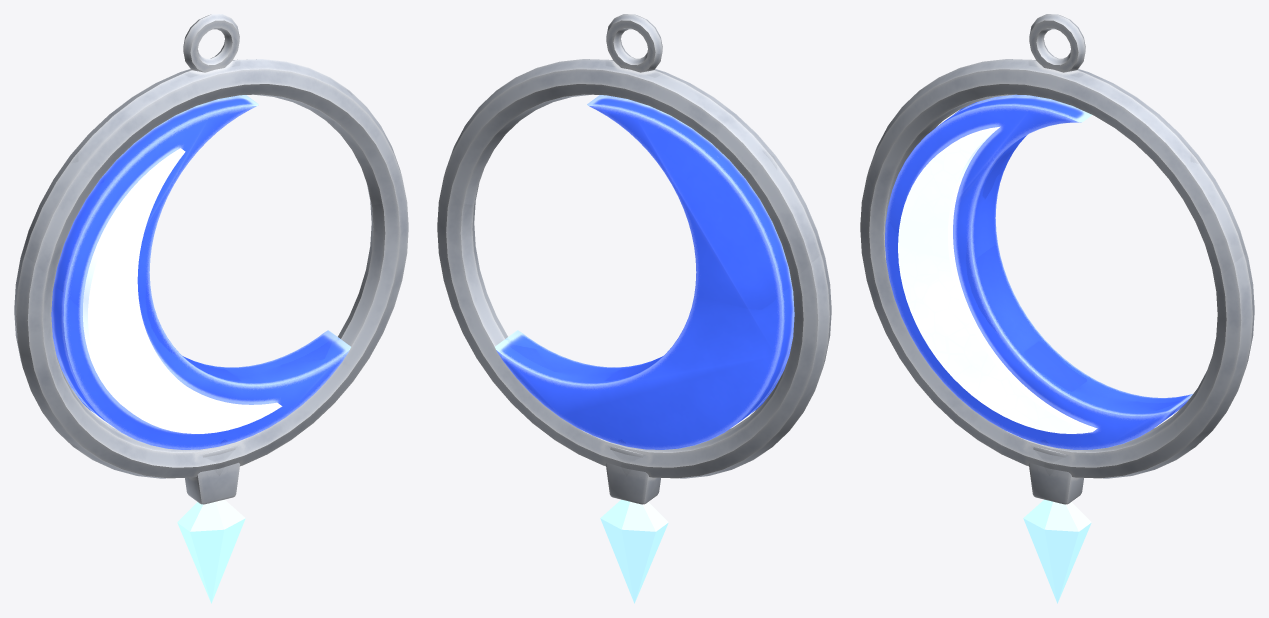
File: PalletMarkCobalt.glb
3 views of the same model, side by side, from view 1: azimuth 30°, elevation 25°; view 2: azimuth 150°, elevation 25°; view 3: azimuth 330°, elevation 25° (orthographic).
Visible parts, largest first — view 1: PalletMarkCobalt; view 2: PalletMarkCobalt; view 3: PalletMarkCobalt.
Boxes of the visible parts, box(x1,y1,x2,y2) form: PalletMarkCobalt: box(14, 14, 408, 603); PalletMarkCobalt: box(437, 14, 831, 603); PalletMarkCobalt: box(860, 14, 1254, 603).
Size of the model in its own units: 0.704 by 1.02 by 0.096.
1 material, 1 textured.
